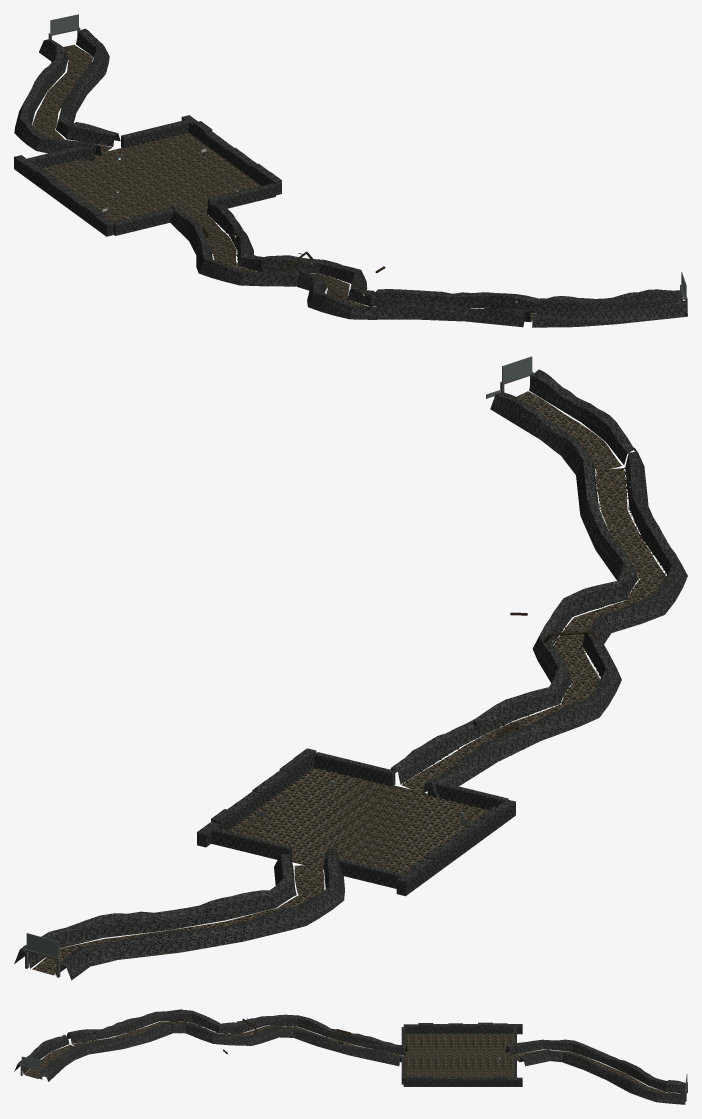
The model's file is PL_Route_A.fbx.
The picture shows the model from 3 angles, top to bottom: view 1: azimuth 30°, elevation 25°; view 2: azimuth 150°, elevation 25°; view 3: azimuth 270°, elevation 25°; orthographic projection. The views are drawn at different scales.
Visible parts, largest first — view 1: PL_A_CombatSpace, PL_Bank_A_1, PL_Bank_A_-1, PL_Bank_ExitA_1, PL_Bank_ExitA_-1, PL_Bank_LinkA_1, PL_Bank_LinkA_-1, PL_Travel_ExitA, PL_Travel_A, PL_A_ClearingEndRim.003, PL_A_ClearingEndRim, PL_A_ClearingEndRim.001 (+1 smaller); view 2: PL_A_CombatSpace, PL_Bank_A_1, PL_Bank_A_-1, PL_Travel_A, PL_Bank_ExitA_1, PL_Bank_ExitA_-1, PL_Bank_LinkA_1, PL_Bank_LinkA_-1, PL_Travel_ExitA, PL_Travel_LinkA, PL_A_ClearingEndRim.001, PL_A_ClearingEndRim.003 (+2 smaller); view 3: PL_A_CombatSpace, PL_Bank_A_1, PL_Bank_A_-1, PL_Bank_ExitA_1, PL_Bank_ExitA_-1, PL_Travel_A, PL_Bank_LinkA_-1, PL_Bank_LinkA_1, PL_Travel_ExitA, PL_Travel_LinkA, PL_A_ClearingRockRim.008, PL_A_Front_OpaqueLeaf (+3 smaller).
Part boxes in pixels (bbox=[...]): PL_A_CombatSpace: bbox=[42, 133, 260, 222]; PL_Bank_A_1: bbox=[169, 205, 530, 327]; PL_Bank_A_-1: bbox=[206, 200, 543, 313]; PL_Bank_ExitA_1: bbox=[14, 39, 101, 161]; PL_Bank_ExitA_-1: bbox=[55, 28, 120, 146]; PL_Bank_LinkA_1: bbox=[532, 300, 687, 327]; PL_Bank_LinkA_-1: bbox=[538, 289, 681, 313]; PL_Travel_ExitA: bbox=[32, 44, 112, 155]; PL_Travel_A: bbox=[187, 213, 534, 321]; PL_A_ClearingEndRim.003: bbox=[121, 120, 188, 148]; PL_A_ClearingEndRim: bbox=[113, 207, 178, 235]; PL_A_ClearingEndRim.001: bbox=[207, 183, 275, 208]; PL_A_CombatSpace: bbox=[228, 767, 488, 873]; PL_Bank_A_1: bbox=[422, 451, 687, 798]; PL_Bank_A_-1: bbox=[390, 461, 638, 784]; PL_Travel_A: bbox=[401, 468, 665, 793]; PL_Bank_ExitA_1: bbox=[55, 848, 344, 980]; PL_Bank_ExitA_-1: bbox=[14, 854, 296, 968]; PL_Bank_LinkA_1: bbox=[529, 369, 641, 464]; PL_Bank_LinkA_-1: bbox=[490, 392, 595, 474]; PL_Travel_ExitA: bbox=[32, 865, 324, 975]; PL_Travel_LinkA: bbox=[516, 391, 621, 471]; PL_A_ClearingEndRim.001: bbox=[314, 752, 395, 786]; PL_A_ClearingEndRim.003: bbox=[211, 827, 291, 859]; PL_A_CombatSpace: bbox=[405, 1034, 514, 1077]; PL_Bank_A_1: bbox=[66, 1009, 407, 1055]; PL_Bank_A_-1: bbox=[87, 1022, 401, 1066]; PL_Bank_ExitA_1: bbox=[505, 1039, 686, 1093]; PL_Bank_ExitA_-1: bbox=[519, 1049, 685, 1104]; PL_Travel_A: bbox=[72, 1021, 404, 1059]; PL_Bank_LinkA_-1: bbox=[39, 1044, 88, 1081]; PL_Bank_LinkA_1: bbox=[14, 1034, 69, 1074]; PL_Travel_ExitA: bbox=[511, 1049, 678, 1093]; PL_Travel_LinkA: bbox=[25, 1044, 74, 1078]; PL_A_ClearingRockRim.008: bbox=[403, 1075, 418, 1086]; PL_A_Front_OpaqueLeaf: bbox=[21, 1056, 40, 1068].
Size of the model in its own units: 11994 by 4356 by 36213.
Materials: 15 (7 with a texture image).
